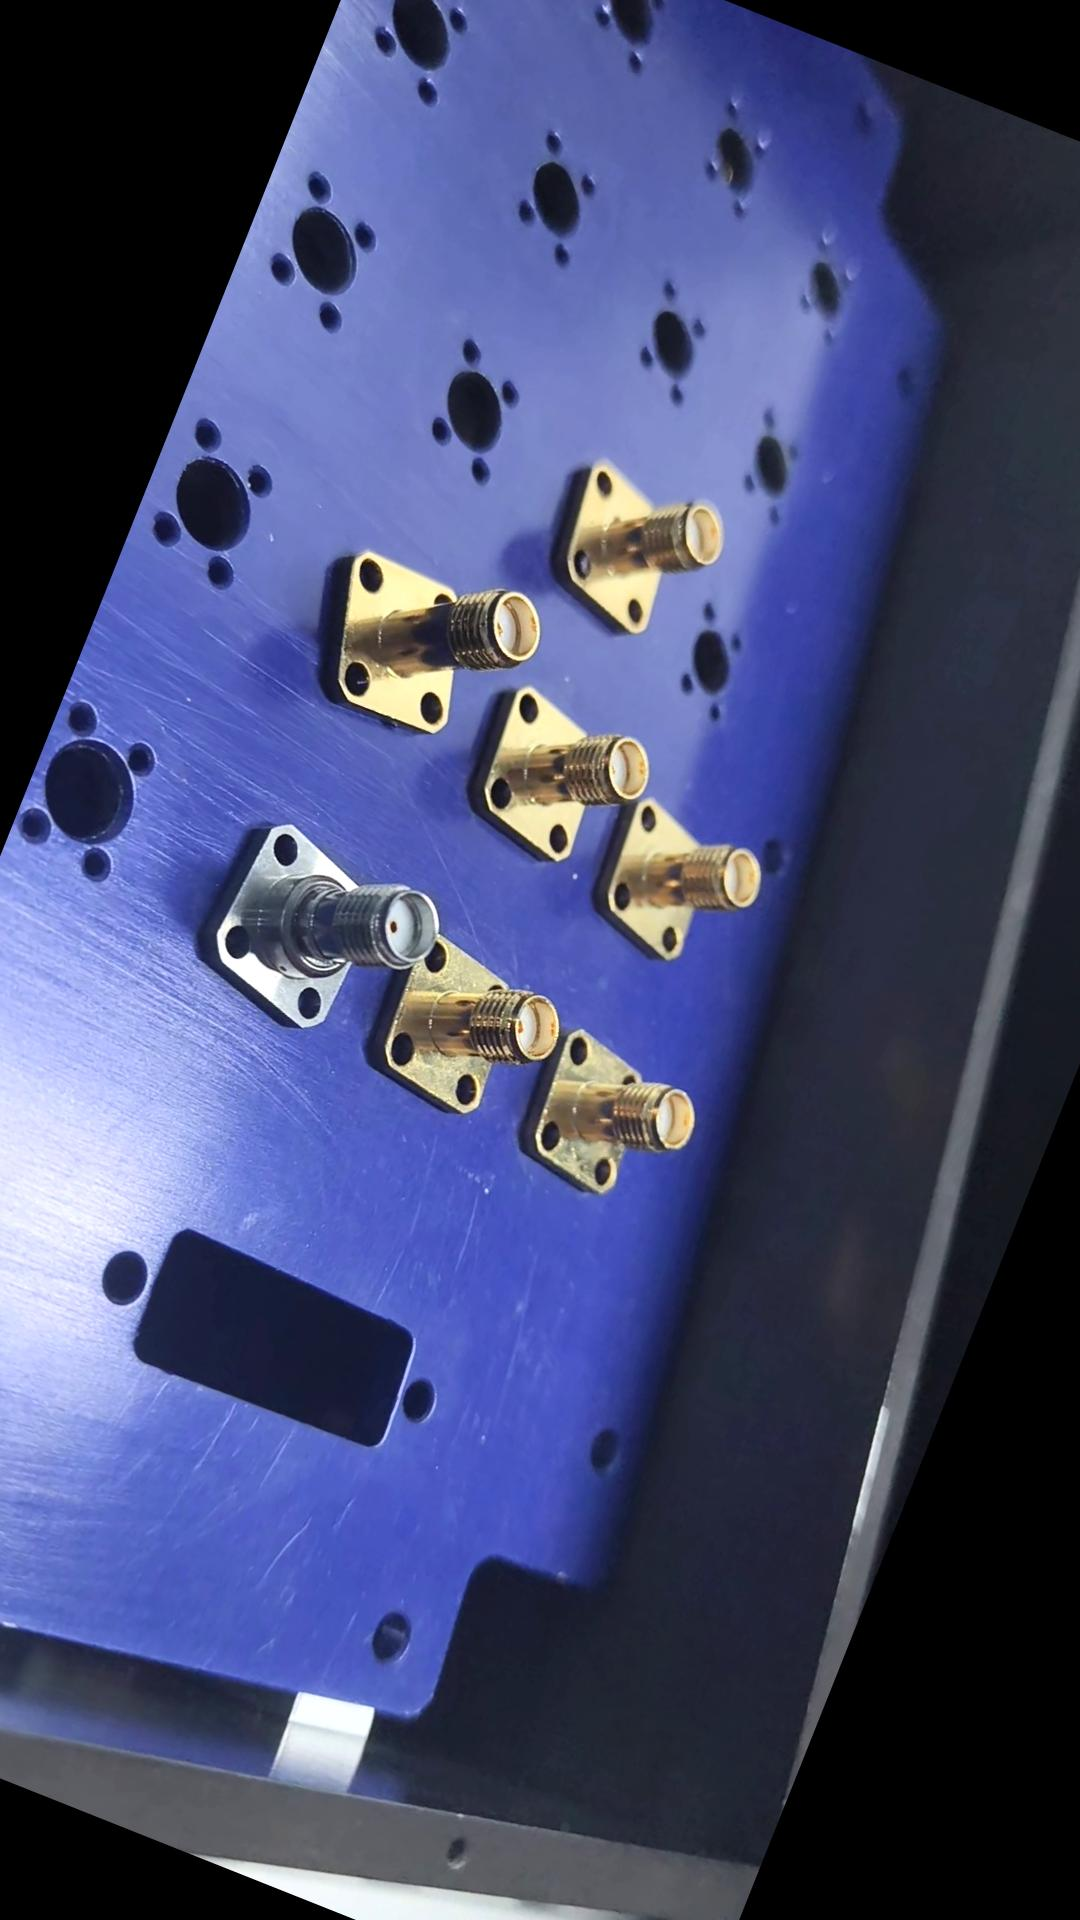SMA: (179, 804, 454, 1063), (294, 522, 553, 762), (502, 1015, 716, 1226), (363, 928, 576, 1139), (454, 680, 667, 884), (531, 451, 738, 649), (578, 790, 777, 982)
